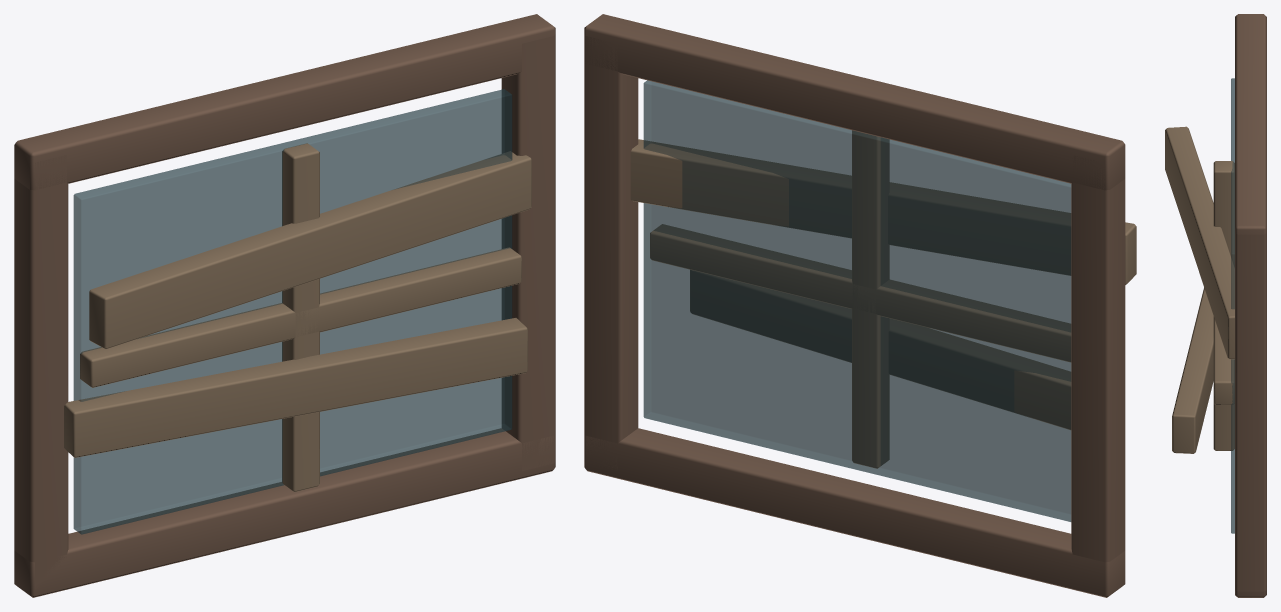
File: prop_window_old_01.glb
3 views of the same model, side by side, from view 1: azimuth 30°, elevation 25°; view 2: azimuth 150°, elevation 25°; view 3: azimuth 270°, elevation 25° (orthographic). The views are drawn at different scales.
Visible parts, largest first — view 1: dark_glass.001, frame_top.003, board_nailed_01.001, frame_bottom.003, board_nailed_02.001, frame_left.003, frame_right.003, cross_horizontal.001, cross_vertical.001; view 2: dark_glass.001, frame_top.003, frame_bottom.003, board_nailed_01.001, frame_right.003, frame_left.003, board_nailed_02.001, cross_horizontal.001, cross_vertical.001; view 3: frame_right.003, frame_top.003, board_nailed_01.001, board_nailed_02.001, cross_vertical.001, dark_glass.001, cross_horizontal.001, frame_bottom.003.
Part boxes in pixels (x1,y1,x2,y2): dark_glass.001: (73, 89, 512, 534); frame_top.003: (14, 14, 555, 190); board_nailed_01.001: (89, 151, 531, 349); frame_bottom.003: (14, 428, 555, 597); board_nailed_02.001: (64, 318, 527, 457); frame_left.003: (14, 155, 68, 589); frame_right.003: (501, 34, 555, 471); cross_horizontal.001: (80, 247, 521, 387); cross_vertical.001: (282, 143, 319, 492); dark_glass.001: (643, 80, 1071, 521); frame_top.003: (584, 14, 1125, 190); frame_bottom.003: (584, 428, 1125, 597); board_nailed_01.001: (630, 139, 1136, 284); frame_right.003: (584, 34, 638, 470); frame_left.003: (1071, 155, 1125, 562); board_nailed_02.001: (690, 270, 1071, 429); cross_horizontal.001: (650, 224, 1071, 362); cross_vertical.001: (852, 130, 889, 468); frame_right.003: (1235, 233, 1266, 591); frame_top.003: (1235, 14, 1266, 234); board_nailed_01.001: (1165, 126, 1234, 359); board_nailed_02.001: (1172, 287, 1213, 453); cross_vertical.001: (1213, 161, 1234, 450); dark_glass.001: (1231, 78, 1234, 533); cross_horizontal.001: (1213, 316, 1234, 404); frame_bottom.003: (1235, 590, 1266, 597).
Size of the model in its own units: 0.95 by 0.77 by 0.1909.
